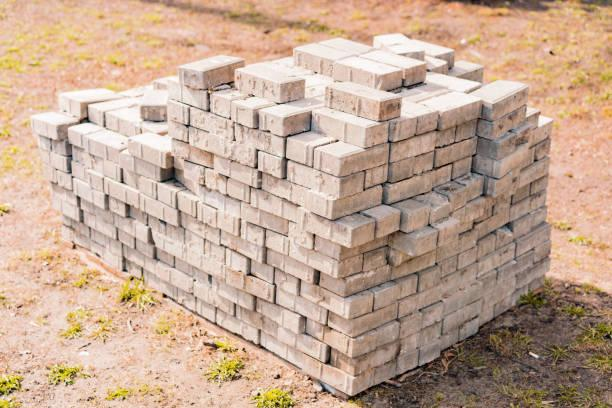Bricks: (236, 306, 324, 364), (263, 177, 381, 220), (304, 356, 398, 395), (155, 234, 224, 282), (125, 248, 193, 296), (328, 77, 401, 120), (233, 62, 304, 103), (187, 127, 258, 167), (258, 97, 326, 138), (312, 107, 379, 148), (386, 164, 452, 205), (299, 282, 374, 318), (418, 90, 484, 130), (312, 140, 389, 174), (324, 324, 401, 357), (288, 243, 361, 277), (179, 53, 245, 90), (445, 268, 499, 311), (334, 57, 405, 89), (328, 341, 399, 373), (329, 302, 397, 335), (320, 265, 391, 296), (471, 80, 529, 117), (294, 42, 356, 76), (274, 288, 328, 326), (473, 144, 531, 179), (285, 128, 335, 168), (70, 144, 121, 182), (315, 236, 388, 262), (226, 94, 281, 128), (81, 199, 134, 234), (478, 125, 532, 159), (296, 212, 347, 247), (213, 308, 261, 344), (119, 152, 174, 183), (250, 188, 298, 223), (478, 105, 528, 138), (88, 105, 141, 135), (400, 320, 444, 356), (257, 300, 302, 335), (233, 124, 283, 155), (287, 160, 335, 192), (241, 204, 288, 236), (265, 250, 312, 282), (260, 330, 299, 368), (399, 285, 441, 320), (214, 155, 258, 188), (187, 108, 232, 140), (390, 250, 436, 281), (366, 47, 422, 72), (435, 230, 477, 263), (442, 258, 478, 296), (444, 297, 482, 333), (390, 131, 437, 160), (179, 212, 220, 245), (213, 278, 254, 310), (221, 231, 263, 262), (479, 240, 516, 275), (141, 194, 178, 229), (65, 85, 125, 106), (434, 137, 477, 166), (128, 142, 174, 169), (172, 140, 212, 170), (496, 250, 533, 282), (196, 284, 234, 315), (423, 70, 474, 93), (509, 192, 547, 222), (322, 37, 377, 57), (517, 223, 549, 257), (104, 178, 138, 209), (170, 83, 207, 111), (94, 91, 143, 112), (513, 209, 548, 237), (420, 192, 452, 222), (478, 208, 508, 240), (177, 259, 209, 289), (125, 170, 156, 200), (521, 155, 550, 187), (74, 178, 103, 210), (382, 30, 419, 55), (485, 279, 512, 311), (72, 164, 105, 190), (244, 276, 275, 302), (34, 109, 76, 128), (137, 131, 175, 152), (81, 212, 110, 239), (433, 218, 460, 246), (372, 282, 400, 309), (410, 228, 437, 255), (90, 140, 120, 164), (239, 224, 268, 247), (274, 270, 300, 295), (250, 259, 276, 284), (420, 302, 445, 328), (398, 312, 422, 339), (488, 173, 514, 197), (362, 247, 388, 271), (264, 232, 291, 255), (345, 225, 376, 245), (226, 180, 251, 203), (52, 195, 75, 220), (215, 211, 237, 237), (224, 248, 246, 274), (419, 338, 441, 364), (31, 118, 61, 137), (455, 247, 479, 270), (289, 225, 311, 249), (421, 268, 443, 292), (156, 183, 177, 208), (206, 170, 228, 193), (195, 300, 218, 322), (256, 151, 280, 172), (167, 102, 189, 124), (451, 211, 473, 233), (401, 347, 420, 372), (455, 120, 475, 143), (533, 240, 552, 264), (178, 193, 197, 217), (459, 318, 478, 342), (495, 225, 513, 250), (400, 275, 418, 300), (376, 73, 402, 90), (166, 224, 187, 245), (389, 159, 411, 179), (197, 204, 217, 226), (205, 242, 225, 264), (225, 267, 244, 290), (365, 128, 390, 145), (108, 196, 128, 216), (439, 257, 458, 278), (186, 232, 205, 253), (166, 122, 188, 140), (116, 231, 136, 250), (453, 157, 470, 179), (441, 326, 457, 349), (437, 127, 454, 148), (136, 241, 157, 258), (339, 178, 361, 194), (381, 101, 400, 119), (129, 207, 148, 225), (510, 183, 530, 200), (394, 121, 415, 137), (537, 136, 551, 160), (149, 217, 167, 235), (416, 154, 435, 171), (306, 320, 323, 339), (479, 235, 494, 256), (56, 169, 71, 190), (406, 215, 428, 229), (421, 115, 438, 133), (381, 218, 401, 233), (75, 119, 102, 130), (531, 177, 548, 194), (157, 250, 173, 268), (52, 140, 70, 156), (135, 224, 150, 243), (51, 153, 70, 168), (368, 169, 388, 183), (109, 241, 128, 255), (142, 108, 165, 119), (408, 70, 425, 84), (58, 95, 71, 112), (69, 131, 81, 149), (467, 186, 482, 199), (70, 101, 81, 117), (453, 193, 465, 206)
